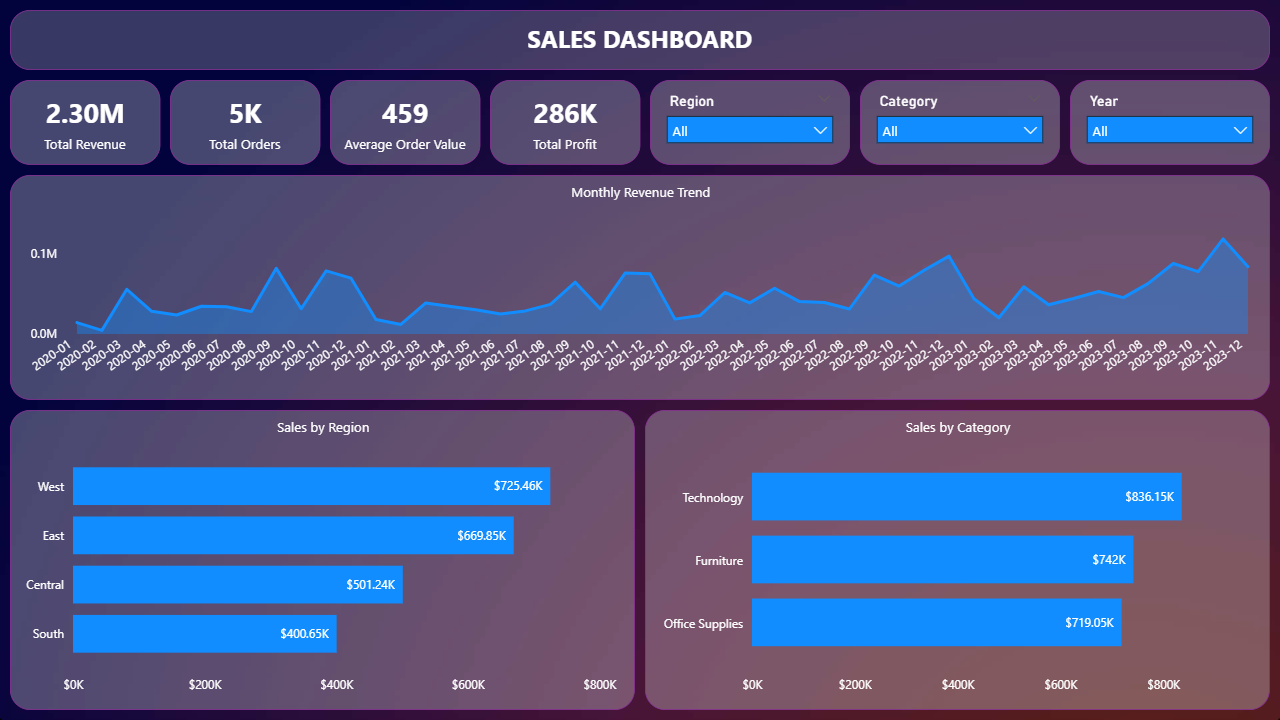

This screenshot's page, from the dashboard's own definition file:
{"tool":"powerbi","page":{"name":"Page 1","canvas":[1280,720],"ordinal":0},"visuals":[{"type":"card","fields":{"Values":["Key Measures.Total Revenue"]},"box":[10,80,150,85],"z":0},{"type":"card","fields":{"Values":["Key Measures.Total Orders"]},"box":[170,80,150,85],"z":1000},{"type":"card","fields":{"Values":["Key Measures.Average Order Value(AOV)"]},"box":[330,80,150,85],"z":2000},{"type":"card","fields":{"Values":["Key Measures.Total Profit"]},"box":[490,80,150,85],"z":3000},{"type":"textbox","box":[10,10,1260,60],"z":4000},{"type":"areaChart","title":"Monthly Revenue Trend","fields":{"Category":["Dim_Date.Year-Month"],"Y":["Key Measures.Total Revenue"]},"box":[10,175,1260,225],"z":5000},{"type":"clusteredBarChart","title":"Sales by Region","fields":{"Category":["Dim_Location.Region"],"Y":["Key Measures.Total Revenue"]},"box":[10,410,625,300],"z":6000},{"type":"clusteredBarChart","title":"Sales by Category","fields":{"Y":["Key Measures.Total Revenue"],"Category":["Dim_Products.Category"]},"box":[645,410,625,300],"z":7000},{"type":"slicer","fields":{"Values":["Dim_Location.Region"]},"box":[650,80,200,85],"z":8000},{"type":"slicer","fields":{"Values":["Dim_Products.Category"]},"box":[860,80,200,85],"z":9000},{"type":"slicer","fields":{"Values":["Dim_Date.Year"]},"box":[1070,80,200,85],"z":10000}]}

Visuals, with their boxes in screenshot pixels (x1, y1, x2, y2), scaled from the page's 1280x720 canvas onto the 1280x720 screenshot:
card - Key Measures.Total Revenue: box=[10, 80, 160, 165]
card - Key Measures.Total Orders: box=[170, 80, 320, 165]
card - Key Measures.Average Order Value(AOV): box=[330, 80, 480, 165]
card - Key Measures.Total Profit: box=[490, 80, 640, 165]
textbox: box=[10, 10, 1270, 70]
"Monthly Revenue Trend" areaChart: box=[10, 175, 1270, 400]
"Sales by Region" clusteredBarChart: box=[10, 410, 635, 710]
"Sales by Category" clusteredBarChart: box=[645, 410, 1270, 710]
slicer - Dim_Location.Region: box=[650, 80, 850, 165]
slicer - Dim_Products.Category: box=[860, 80, 1060, 165]
slicer - Dim_Date.Year: box=[1070, 80, 1270, 165]
